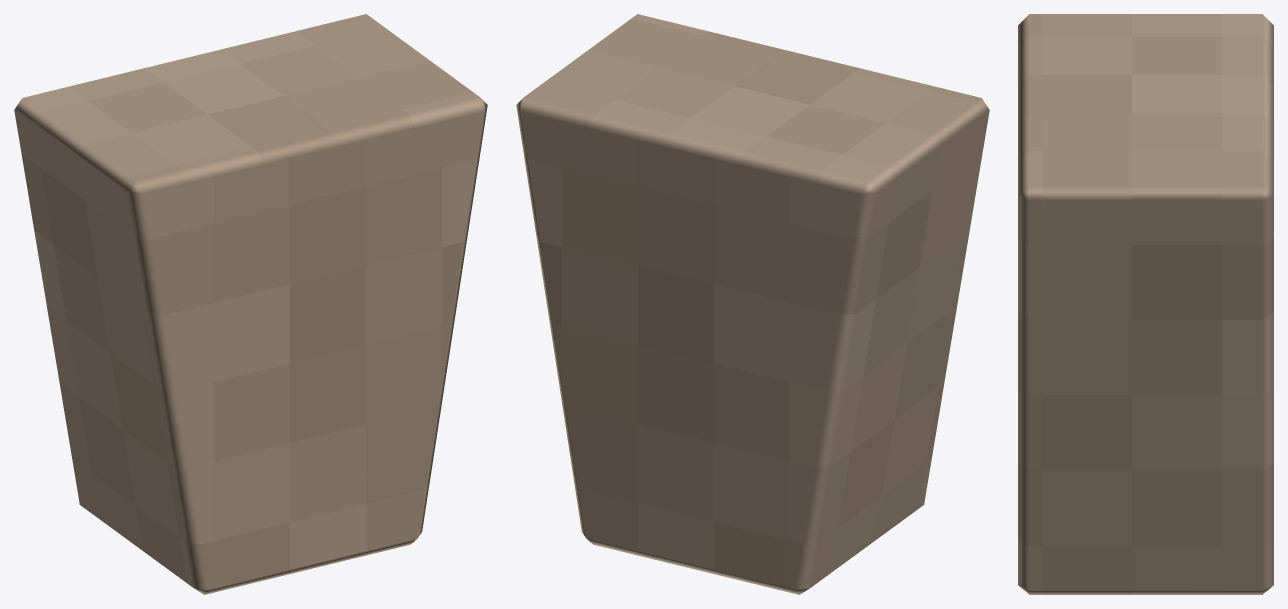
The model's file is Individual-keystone.glb.
The picture shows the model from 3 angles, left to right: view 1: azimuth 30°, elevation 25°; view 2: azimuth 150°, elevation 25°; view 3: azimuth 270°, elevation 25°; orthographic projection. The views are drawn at different scales.
Parts seen in each view (by area): view 1: Individual-keystone; view 2: Individual-keystone; view 3: Individual-keystone.
Part boxes in pixels (<box>): Individual-keystone: <box>14,14,487,594</box>; Individual-keystone: <box>516,14,989,594</box>; Individual-keystone: <box>1018,14,1273,594</box>.
Size of the model in its own units: 0.1855 by 0.2121 by 0.111.
1 material, 1 textured.
